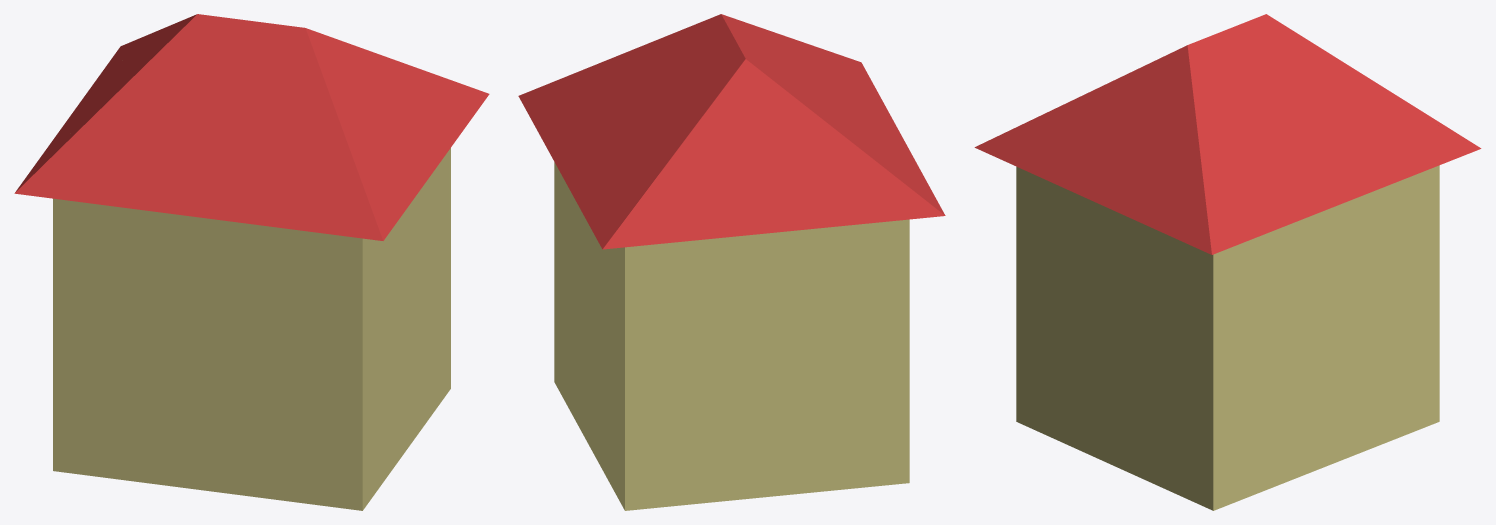
The picture shows the model from 3 angles, left to right: view 1: azimuth 30°, elevation 25°; view 2: azimuth 150°, elevation 25°; view 3: azimuth 270°, elevation 25°; orthographic projection. The views are drawn at different scales.
Parts seen in each view (by area): view 1: group_5, group_3, group_4; view 2: group_5, group_3, group_4; view 3: group_5, group_3, group_4.
Part boxes in pixels (<box>): group_5: <box>53,148,450,510</box>; group_3: <box>14,14,489,240</box>; group_4: <box>15,39,382,240</box>; group_5: <box>554,162,909,510</box>; group_3: <box>521,14,945,249</box>; group_4: <box>518,51,944,249</box>; group_5: <box>1016,165,1439,510</box>; group_3: <box>974,14,1474,254</box>; group_4: <box>1211,121,1481,254</box>.
Size of the model in its own units: 17.04 by 17.08 by 14.54.
